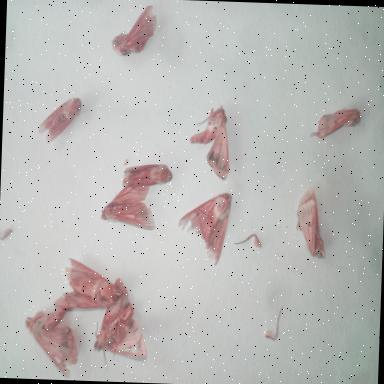abw: (89, 270, 154, 371), (173, 186, 235, 268), (19, 301, 84, 379), (49, 254, 125, 318), (182, 100, 234, 182), (94, 172, 158, 232), (106, 0, 159, 60), (291, 184, 330, 262), (34, 92, 84, 148), (306, 102, 363, 144), (118, 158, 176, 192)
